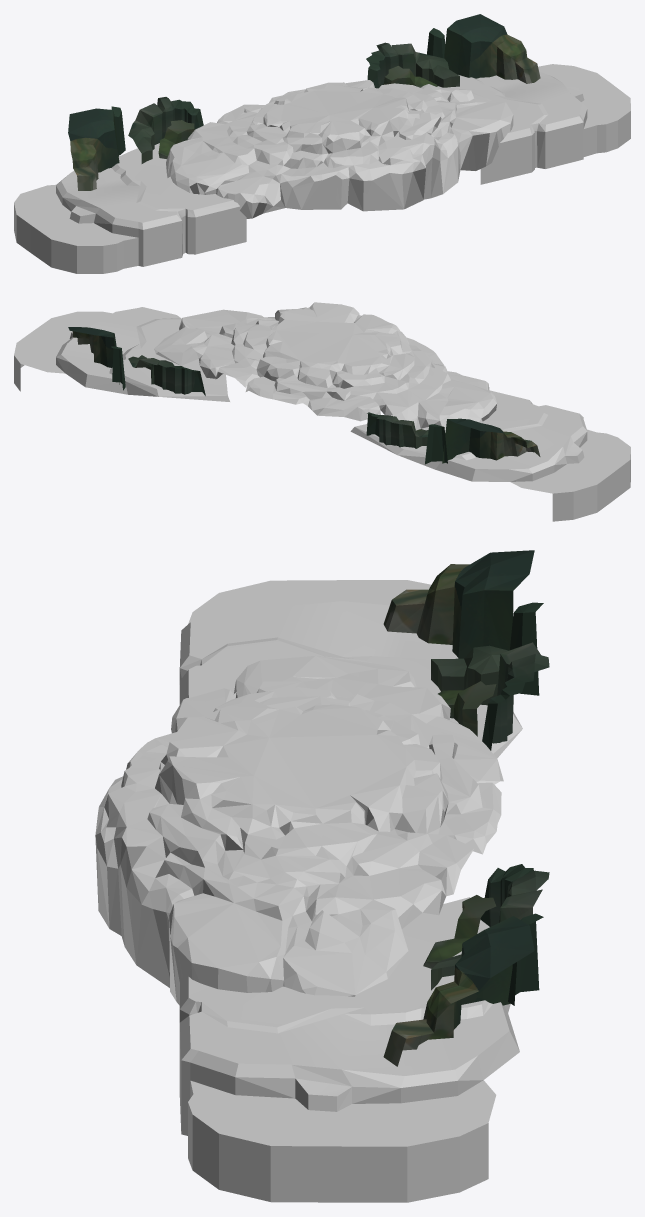
The model's file is Underground_lvl_Enny.fbx.
The picture shows the model from 3 angles, top to bottom: view 1: azimuth 30°, elevation 25°; view 2: azimuth 150°, elevation 25°; view 3: azimuth 270°, elevation 25°; orthographic projection. The views are drawn at different scales.
Visible parts, largest first — view 1: Ground_lvl2_Enny, Underground_lvl_add_Enny, Underground_lvl_add_right_Enny, Rock3_underground_lvl_add_right_Enny, Rock3_underground_lvl_add_Enny, Rock2_underground_lvl_add_right_Enny, Rock2_underground_lvl_add_Enny, Rock1_underground_lvl_add_Enny, Rock1_underground_lvl_add_right_Enny; view 2: Ground_lvl2_Enny, Underground_lvl_add_Enny, Underground_lvl_add_right_Enny, Rock3_underground_lvl_add_Enny, Rock2_underground_lvl_add_right_Enny, Rock3_underground_lvl_add_right_Enny, Rock2_underground_lvl_add_Enny; view 3: Ground_lvl2_Enny, Underground_lvl_add_right_Enny, Underground_lvl_add_Enny, Rock3_underground_lvl_add_Enny, Rock3_underground_lvl_add_right_Enny, Rock2_underground_lvl_add_Enny, Rock2_underground_lvl_add_right_Enny, Rock1_underground_lvl_add_right_Enny, Rock1_underground_lvl_add_Enny.
Boxes of the visible parts, x1,y1,x2,y2 form: Ground_lvl2_Enny: (166,80,513,218); Underground_lvl_add_Enny: (14,143,246,273); Underground_lvl_add_right_Enny: (437,64,630,184); Rock3_underground_lvl_add_right_Enny: (427,14,540,83); Rock3_underground_lvl_add_Enny: (68,106,125,190); Rock2_underground_lvl_add_right_Enny: (366,42,459,88); Rock2_underground_lvl_add_Enny: (128,97,203,163); Rock1_underground_lvl_add_Enny: (158,120,194,159); Rock1_underground_lvl_add_right_Enny: (383,66,437,87); Ground_lvl2_Enny: (154,302,497,432); Underground_lvl_add_Enny: (350,390,630,521); Underground_lvl_add_right_Enny: (14,307,229,401); Rock3_underground_lvl_add_Enny: (425,418,540,464); Rock2_underground_lvl_add_right_Enny: (128,355,205,395); Rock3_underground_lvl_add_right_Enny: (68,327,125,390); Rock2_underground_lvl_add_Enny: (366,412,445,448); Ground_lvl2_Enny: (95,655,503,1005); Underground_lvl_add_right_Enny: (179,897,519,1202); Underground_lvl_add_Enny: (179,580,522,758); Rock3_underground_lvl_add_Enny: (383,550,543,695); Rock3_underground_lvl_add_right_Enny: (383,913,543,1066); Rock2_underground_lvl_add_Enny: (431,642,549,750); Rock2_underground_lvl_add_right_Enny: (431,864,549,990); Rock1_underground_lvl_add_right_Enny: (423,895,496,968); Rock1_underground_lvl_add_Enny: (438,681,496,736).
Bounding box in the file's own units: 672 × 99.56 × 228.
